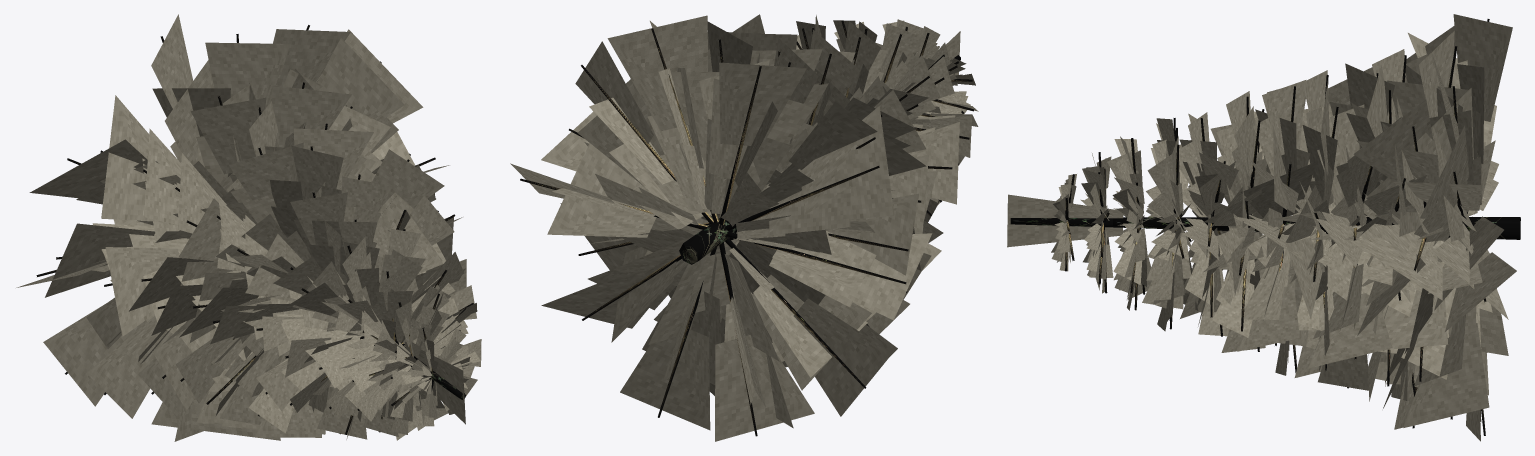
The model's file is PZ_ALP_01_Dwarf_Spruce_2p9m.glb.
The picture shows the model from 3 angles, left to right: view 1: azimuth 30°, elevation 25°; view 2: azimuth 150°, elevation 25°; view 3: azimuth 270°, elevation 25°; orthographic projection. The views are drawn at different scales.
Parts seen in each view (by area): view 1: NeedleSprigCards_DoubleSided_MASK, StructuralBranches_Conifer; view 2: NeedleSprigCards_DoubleSided_MASK, StructuralBranches_Conifer, TreeTrunk_Bark; view 3: NeedleSprigCards_DoubleSided_MASK, StructuralBranches_Conifer, TreeTrunk_Bark.
Part boxes in pixels (x1,y1,x2,y2): NeedleSprigCards_DoubleSided_MASK: (16,14,481,441); StructuralBranches_Conifer: (36,25,473,434); NeedleSprigCards_DoubleSided_MASK: (510,14,978,441); StructuralBranches_Conifer: (520,20,974,436); TreeTrunk_Bark: (679,55,960,264); NeedleSprigCards_DoubleSided_MASK: (1007,14,1516,441); StructuralBranches_Conifer: (1065,19,1489,435); TreeTrunk_Bark: (1010,217,1520,239).
Size of the model in its own units: 2.43 by 2.43 by 2.92.
Materials: 2 (2 with a texture image).
